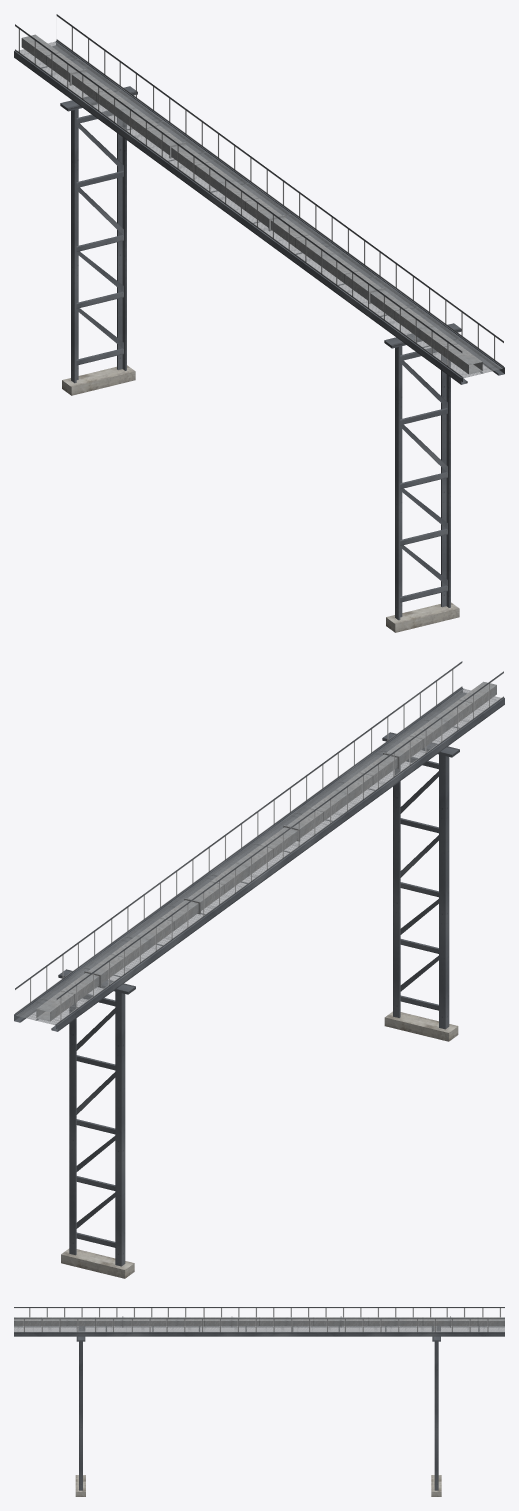
The model's file is plant-building52-2.glb.
The picture shows the model from 3 angles, top to bottom: view 1: azimuth 30°, elevation 25°; view 2: azimuth 150°, elevation 25°; view 3: azimuth 270°, elevation 25°; orthographic projection. The views are drawn at different scales.
Parts seen in each view (by area): view 1: Object8935888; view 2: Object8935888; view 3: Object8935888.
Boxes of the visible parts, x1=… form: Object8935888: x1=14, y1=14, x2=504, y2=632; Object8935888: x1=14, y1=661, x2=504, y2=1278; Object8935888: x1=14, y1=1307, x2=504, y2=1496.
Bounding box in the file's own units: 2.64 × 11.55 × 29.28.
Materials: 1 (1 with a texture image).
